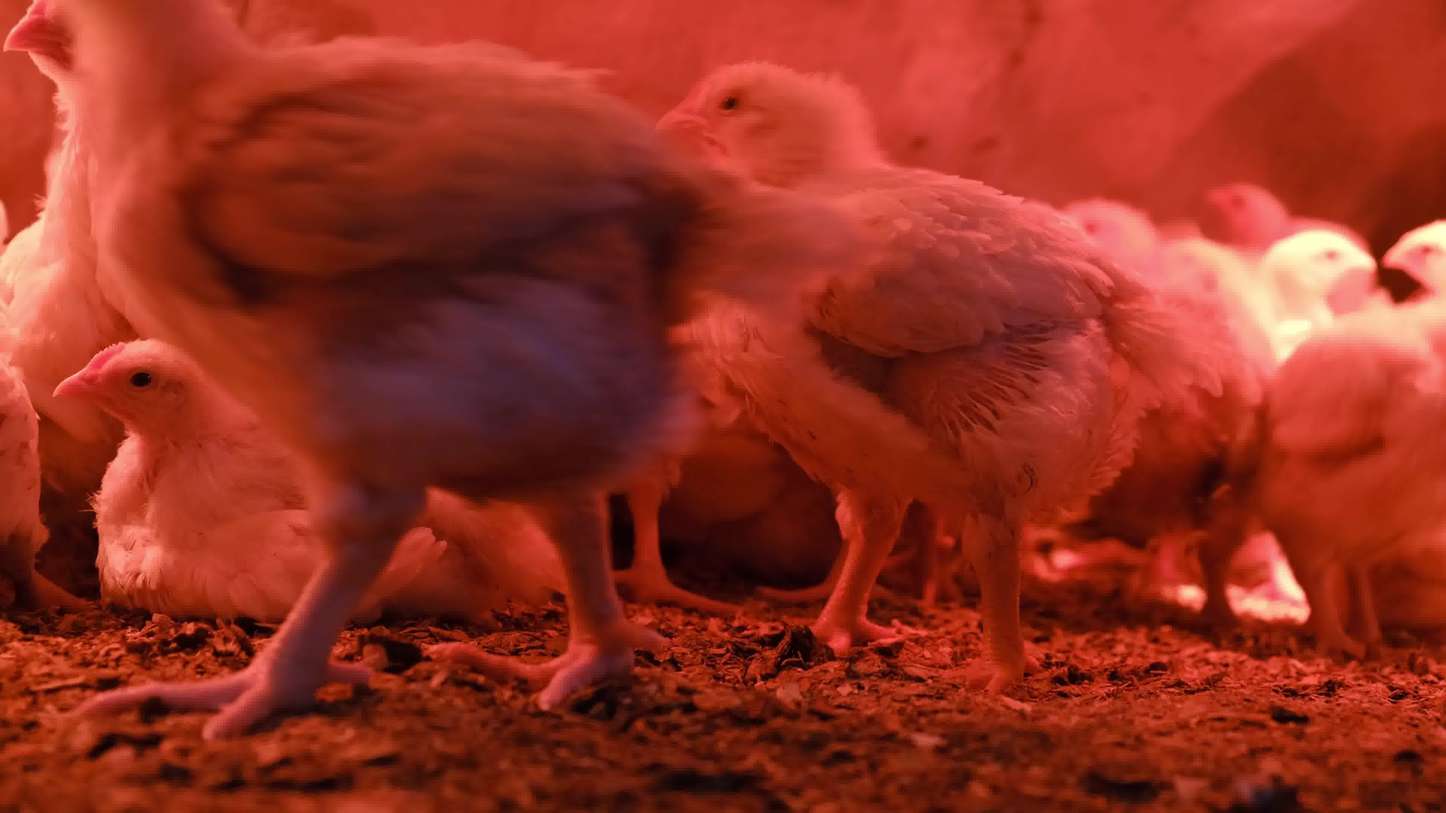AbNormal: (43, 312, 618, 674), (0, 248, 85, 602)
Normal: (11, 0, 727, 740), (668, 58, 1164, 685), (1222, 297, 1446, 672), (1056, 184, 1288, 429), (11, 136, 143, 403), (1186, 115, 1310, 271), (1258, 215, 1412, 329), (1378, 192, 1446, 294)
